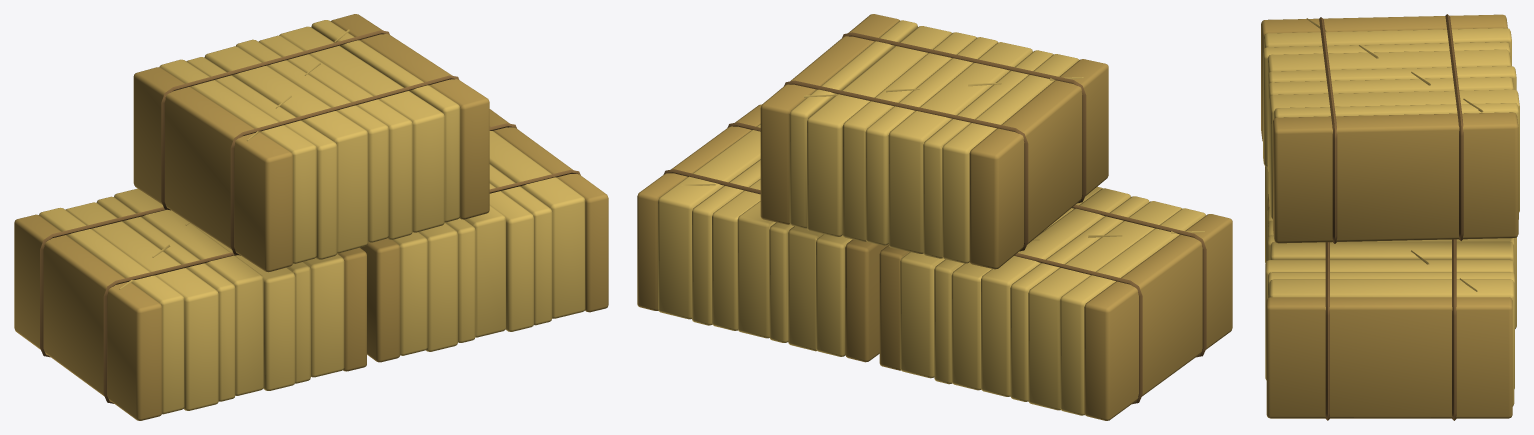
Rendered from hayStack.glb.
3 renders of one model, left to right at view 1: azimuth 30°, elevation 25°; view 2: azimuth 150°, elevation 25°; view 3: azimuth 270°, elevation 25°, orthographic.
Parts seen in each view (by area): view 1: hayStack; view 2: hayStack; view 3: hayStack.
Boxes of the visible parts, bbox=[...] form: hayStack: bbox=[14, 14, 608, 420]; hayStack: bbox=[637, 14, 1232, 420]; hayStack: bbox=[1261, 14, 1519, 420].
Size of the model in its own units: 1.91 by 0.931 by 0.9004.
